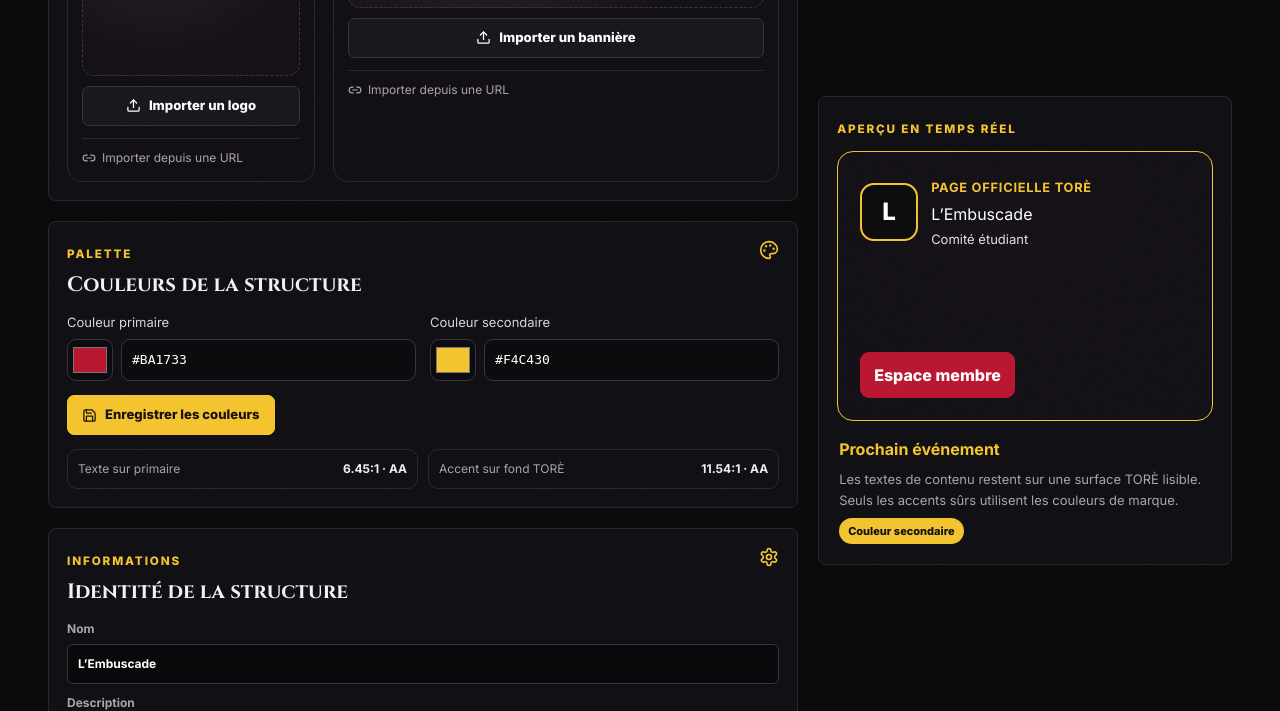
Test case: StructurePortalSettings › validates HEX values and falls back to the TORÈ accent when WCAG contrast is insufficient
(page scrolled)
Replace the text in the field named "Couleur secondaire (HEX)" with "#111111" at (632, 360), box [484,339,779,381]
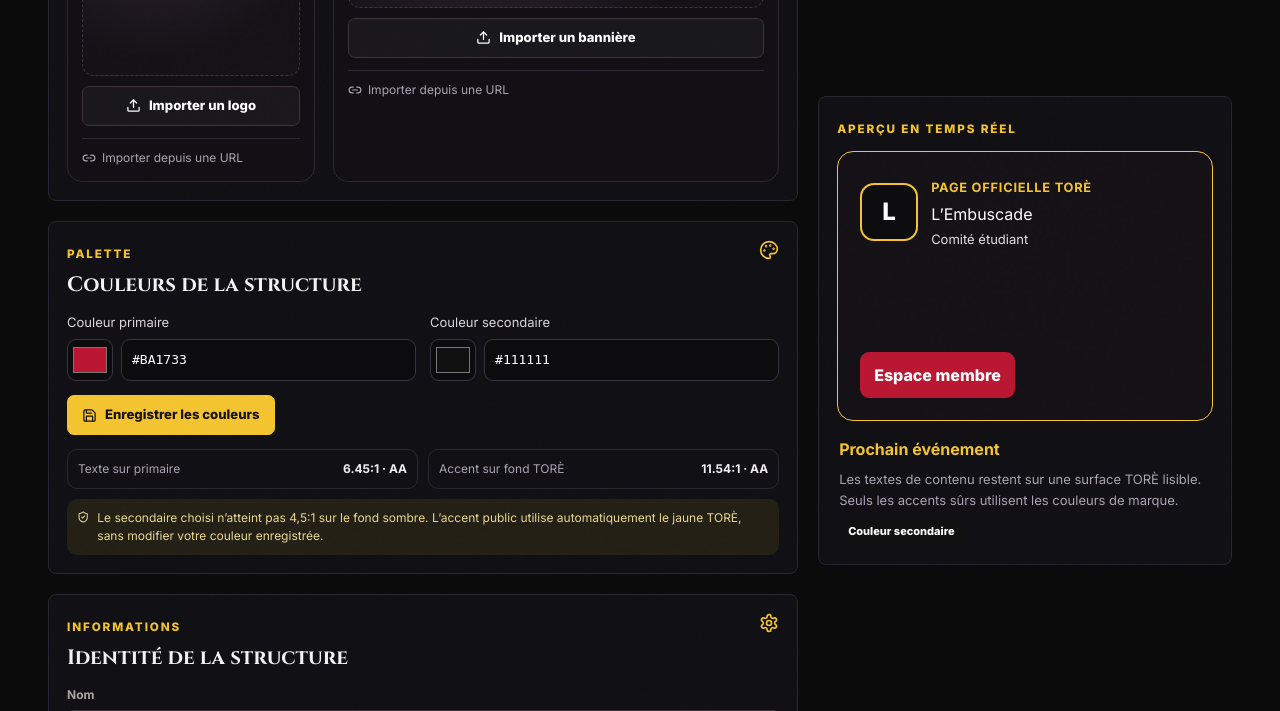
Now the text "l’accent public utilise automatiquement le jaune TORÈ" is shown, box [97,510,742,543]
Replace the text in the field named "Couleur primaire (HEX)" with "#12" at (269, 360), box [121,339,416,381]
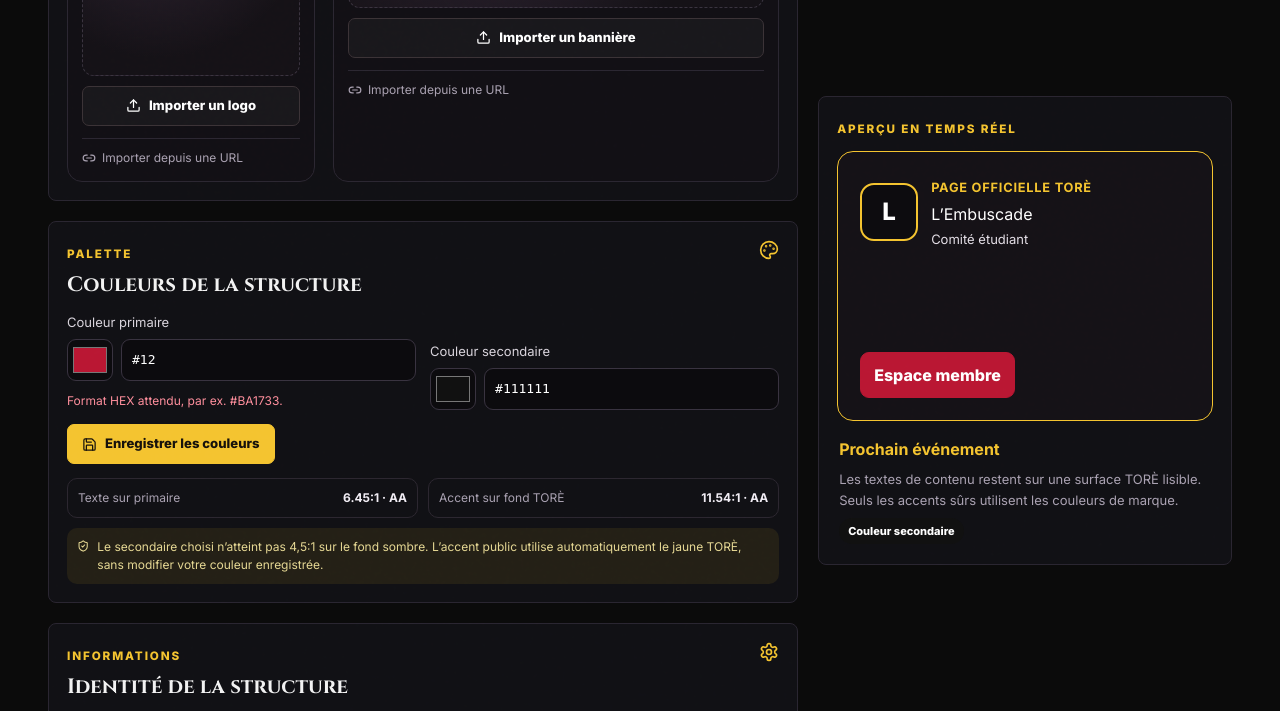
Now the text "Format HEX attendu, par ex. #BA1733." is shown, box [67,393,283,408]
Now the button "Enregistrer les couleurs" is disabled, box [67,424,274,464]
